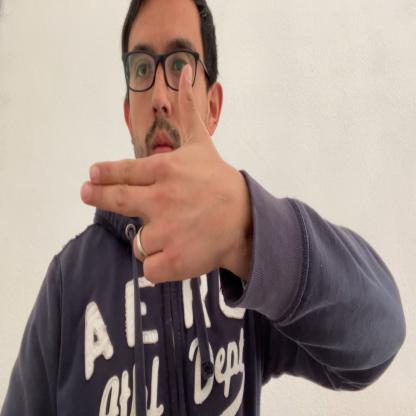H: (80, 62, 242, 284)
